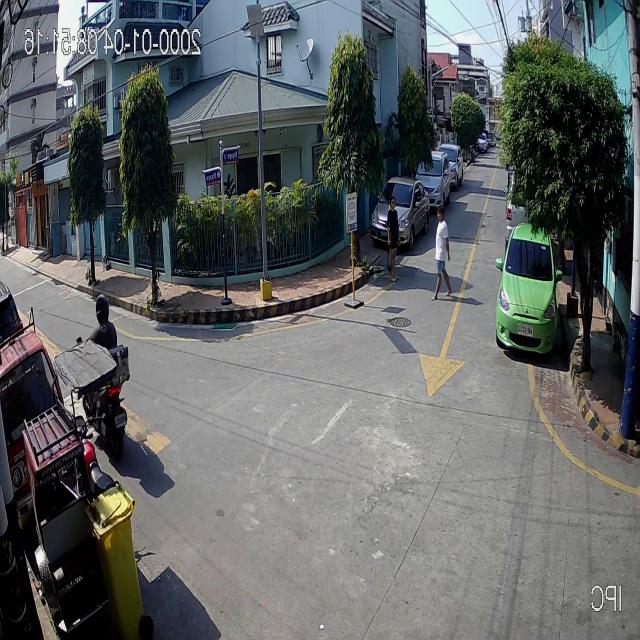standing: (385, 195, 401, 282)
walking: (430, 204, 453, 300)
